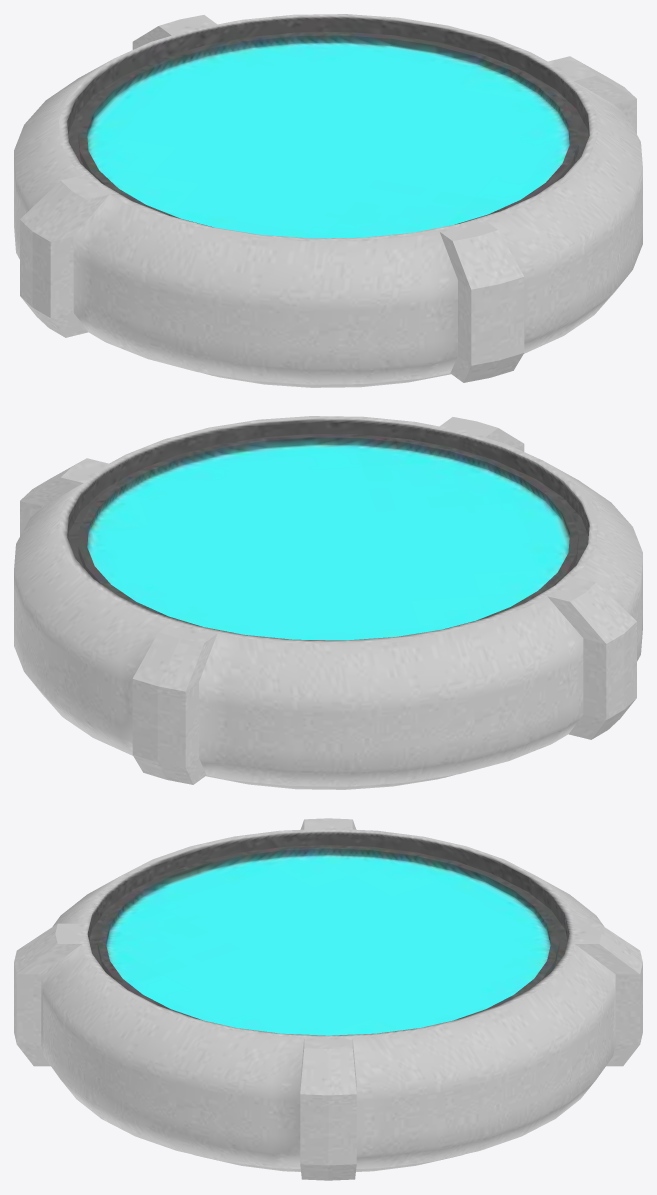
The model's file is holo.glb.
3 renders of one model, top to bottom at view 1: azimuth 30°, elevation 25°; view 2: azimuth 150°, elevation 25°; view 3: azimuth 270°, elevation 25°, orthographic. The views are drawn at different scales.
Visible parts, largest first — view 1: Cylinder_Material_0; view 2: Cylinder_Material_0; view 3: Cylinder_Material_0.
Boxes of the visible parts, <box> form: Cylinder_Material_0: <box>14,14,642,387</box>; Cylinder_Material_0: <box>14,416,642,789</box>; Cylinder_Material_0: <box>14,818,642,1180</box>.
Bounding box in the file's own units: 6.44 × 1.62 × 6.44.
1 material, 1 textured.
